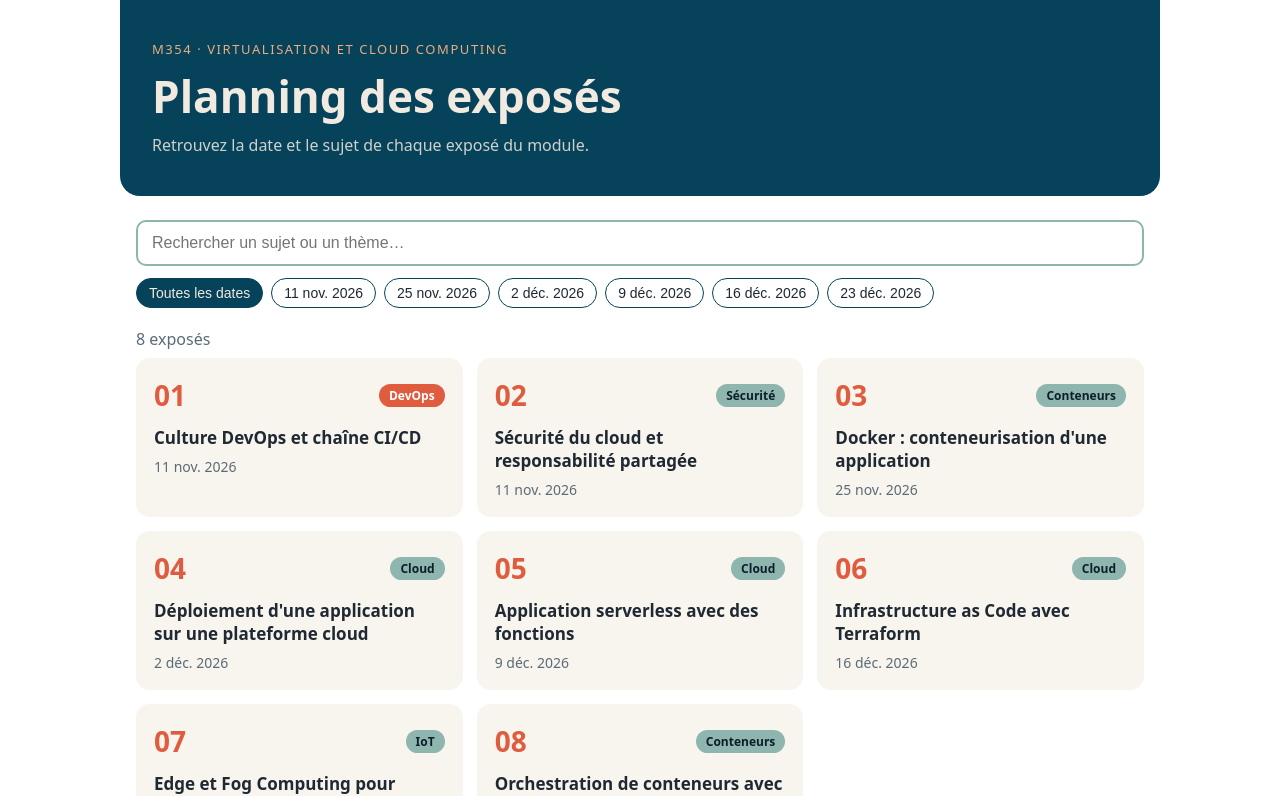
App › filtre par date au clic sur une puce
Click the button "11 nov. 2026". click: (324, 293)
box: [271,278,376,308]
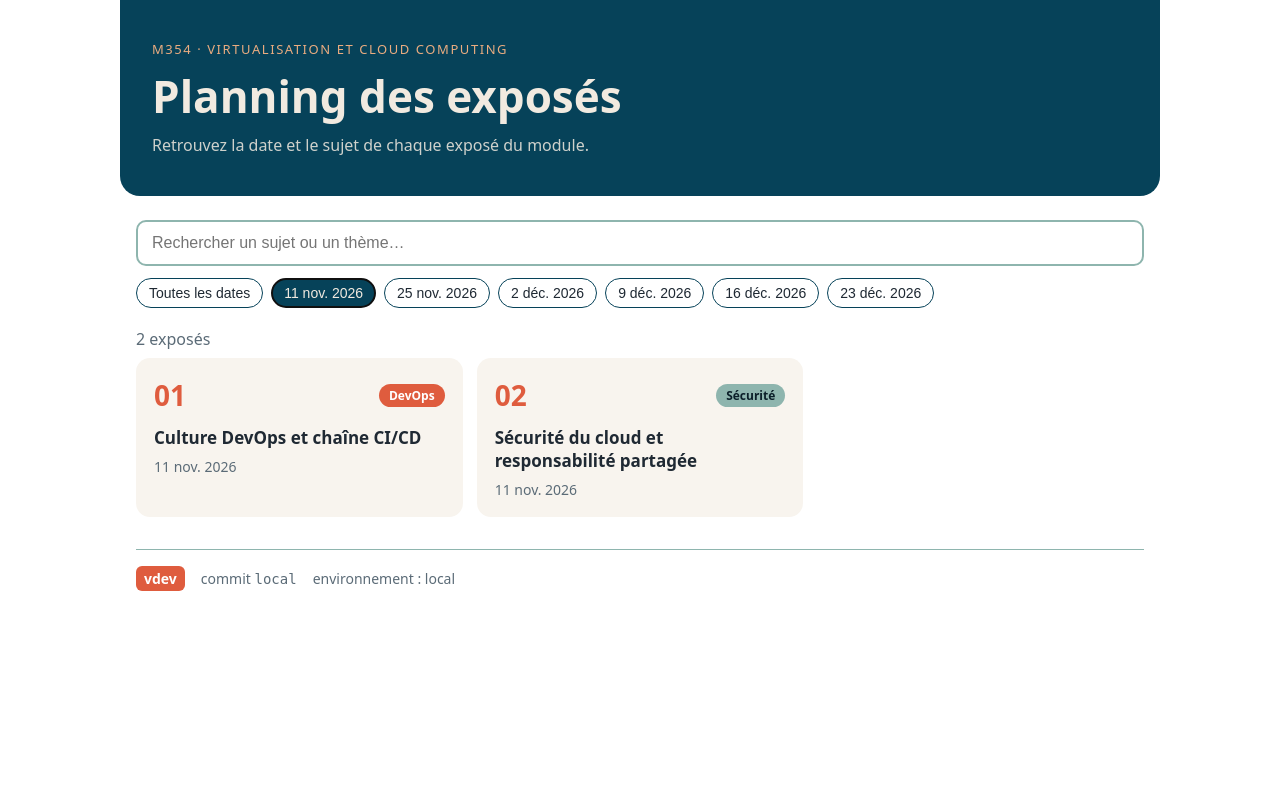
expect the heading "Culture DevOps et chaîne CI/CD" is shown: met, box [154,426,445,449]
expect the number of list items with test id "expose" is 2: met, box [136,358,463,517]; [477,358,803,517]
